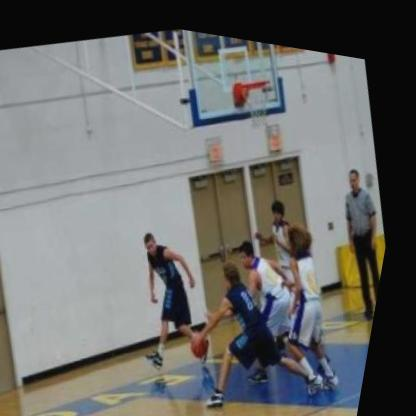basketball: (195, 318, 229, 355)
